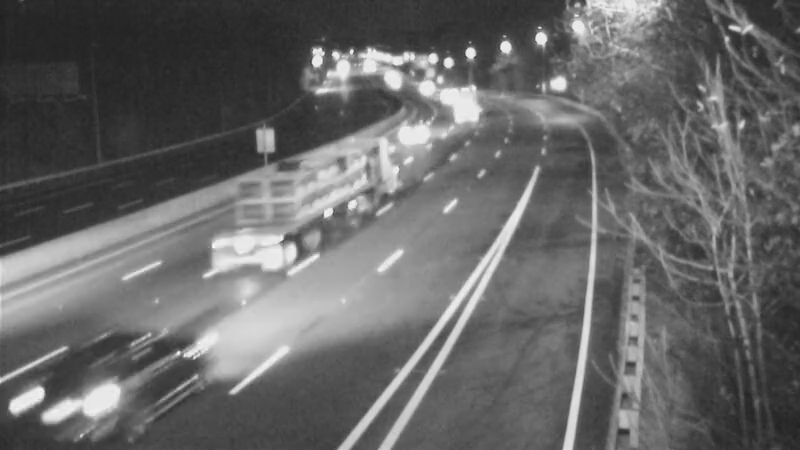vehicle: (16, 340, 126, 450), (252, 165, 332, 245), (401, 62, 451, 112), (424, 73, 474, 123), (442, 72, 492, 122), (394, 107, 444, 157)
